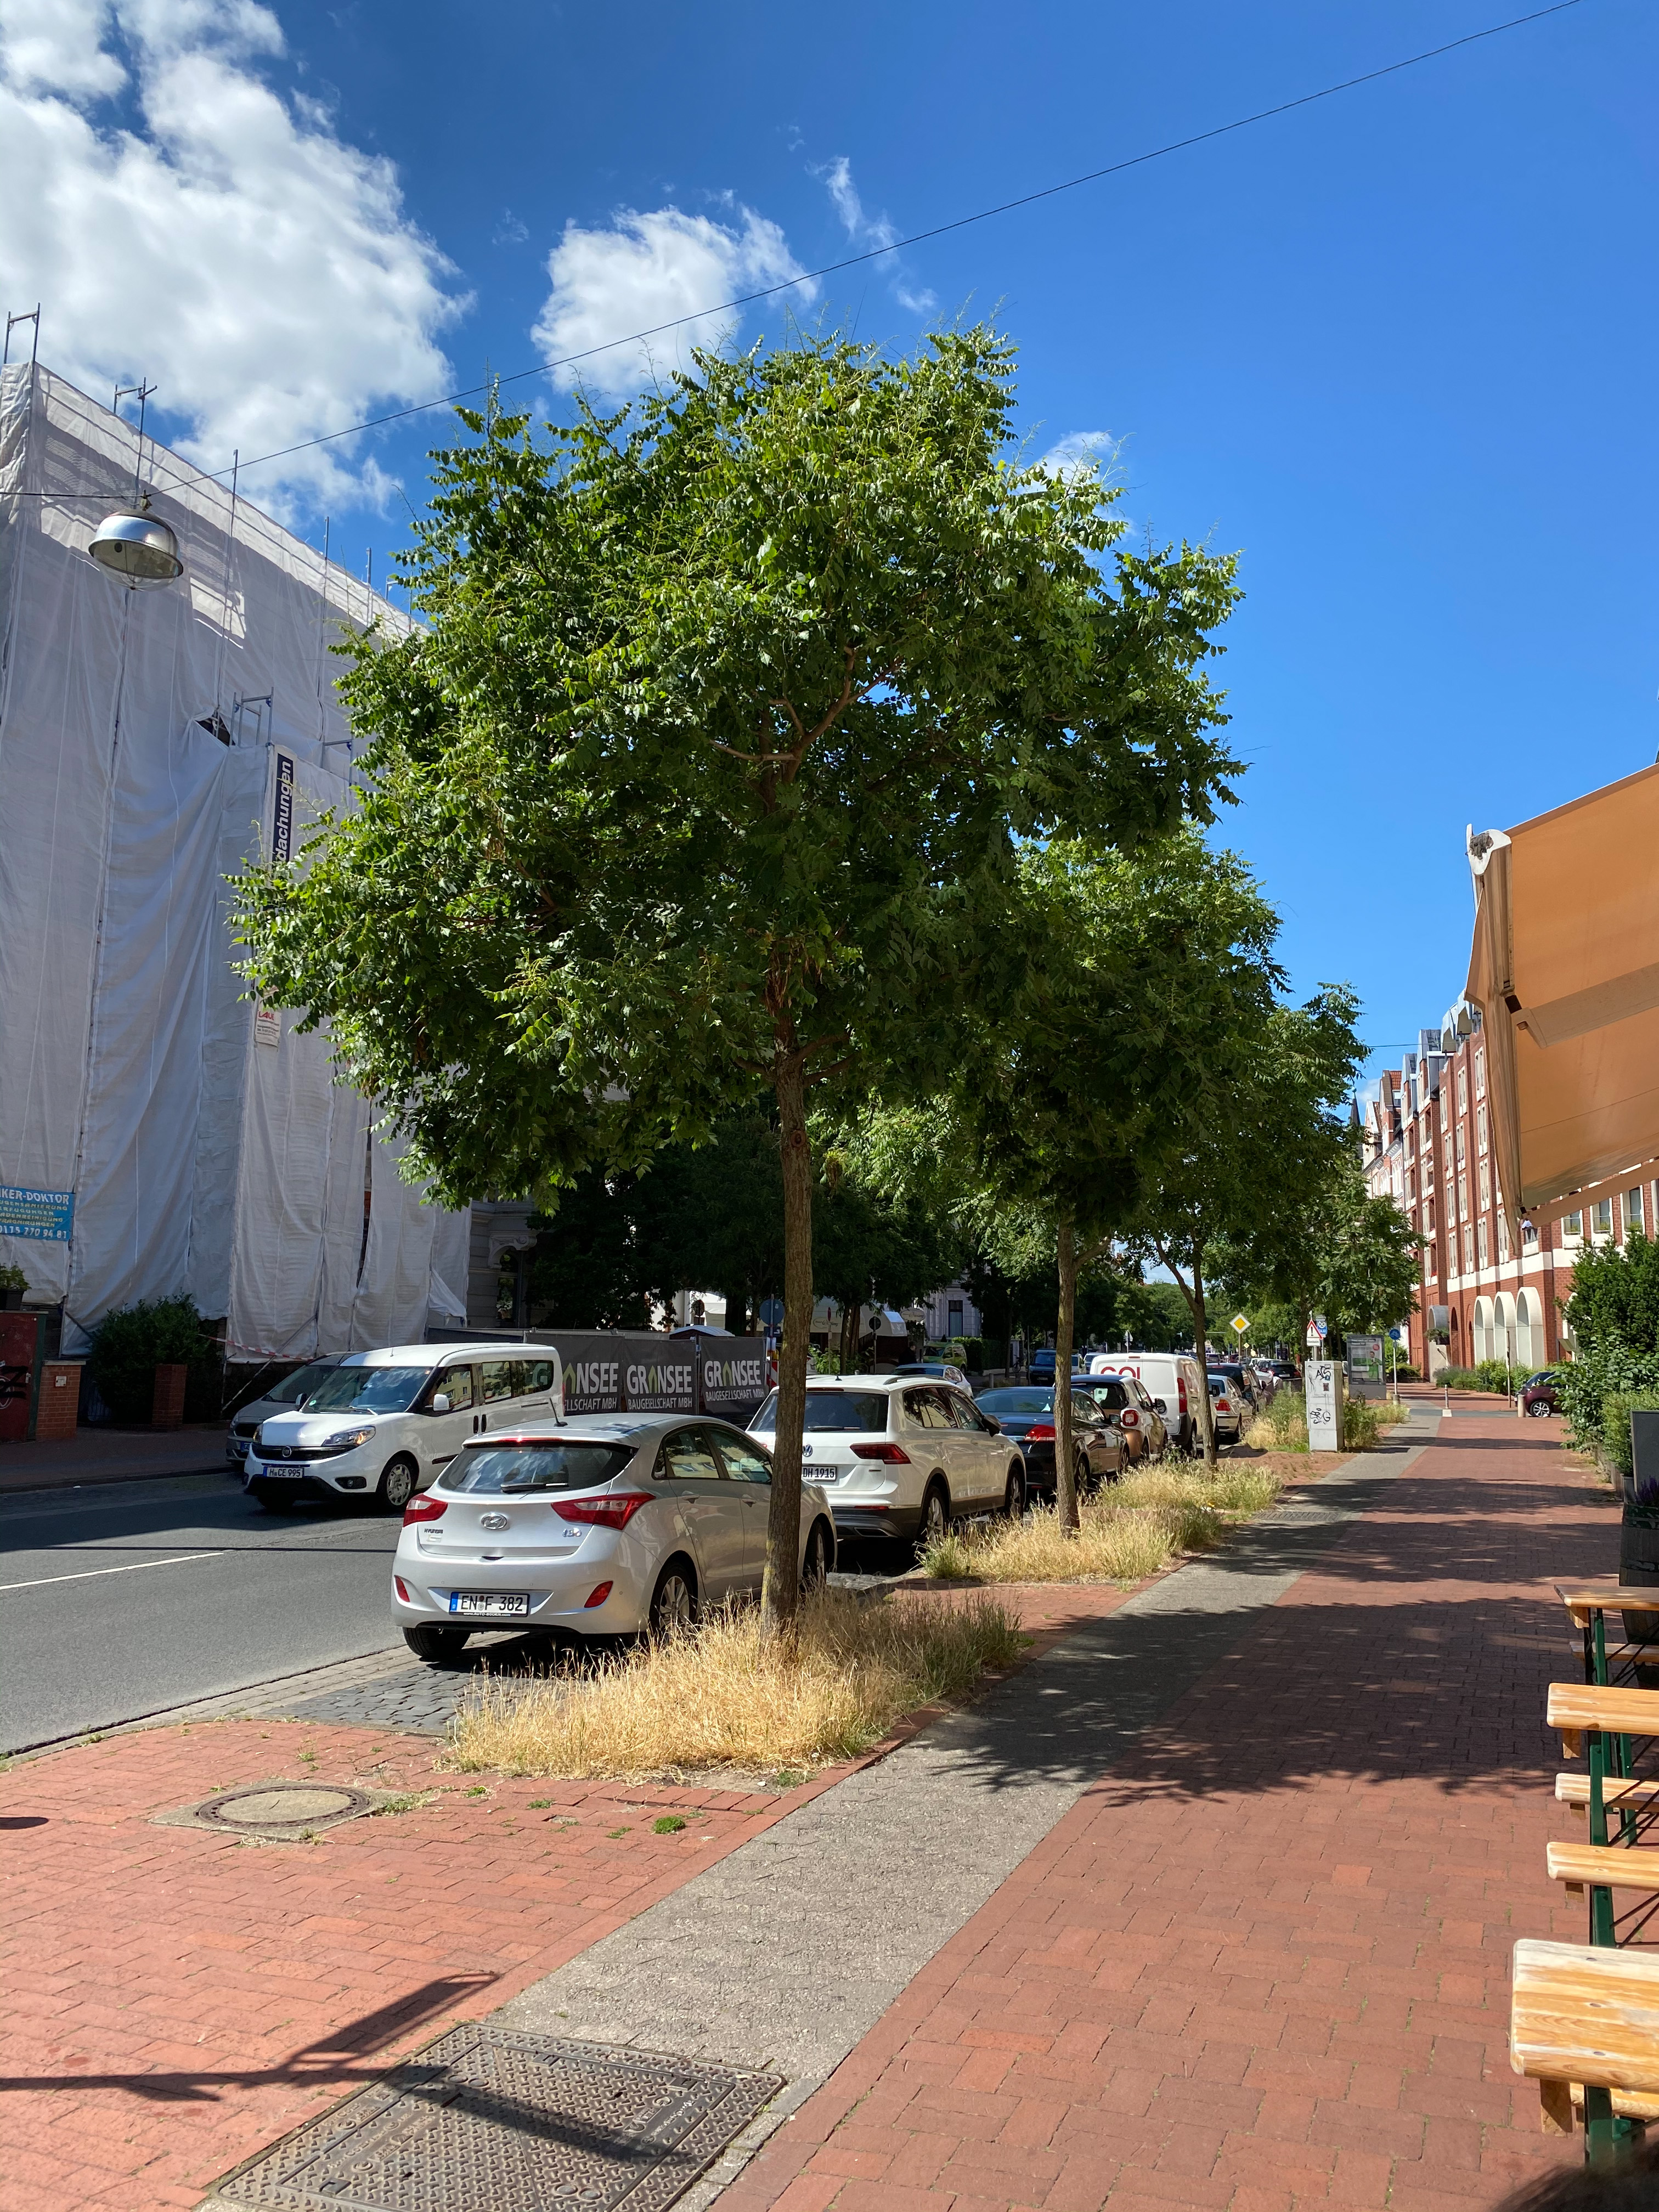tree: (207, 286, 1274, 1627), (809, 808, 1291, 1541), (603, 1108, 843, 1338), (1201, 1148, 1403, 1402), (810, 1181, 976, 1374), (1310, 1211, 1431, 1390), (523, 1172, 657, 1331), (1093, 1268, 1173, 1353)
